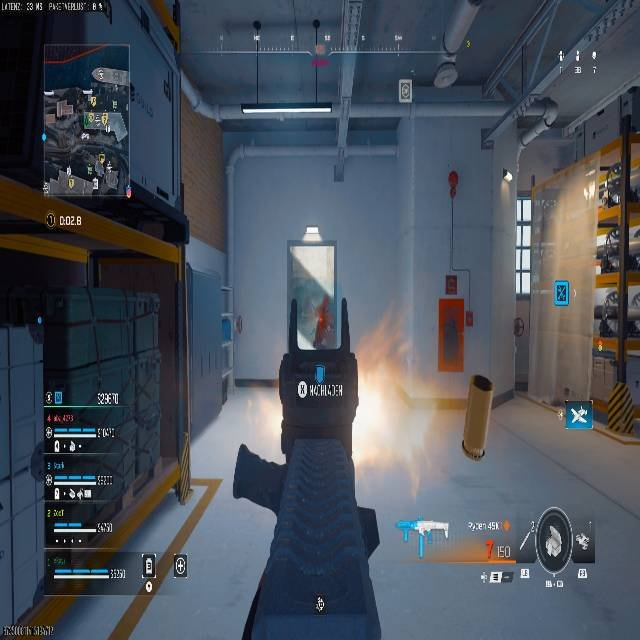player: (39, 89, 129, 200)
